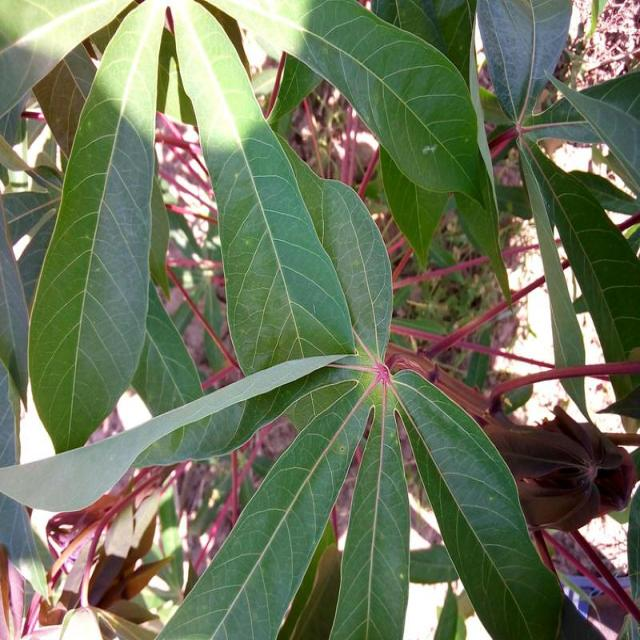cassava leaf: (3, 0, 570, 638), (28, 0, 170, 454), (392, 367, 565, 638)
